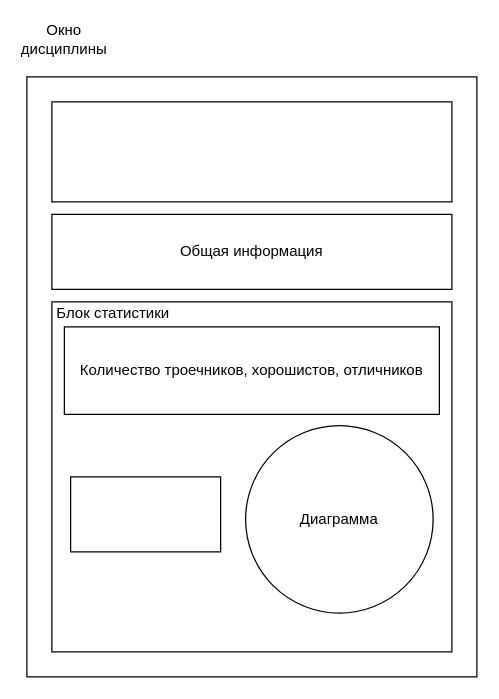
Image size: 499x699. Some labels were removed from this diagram. Each missing label, with the centre of its shape:
Легенда: (145,514)
Профиль преподавателя -Имя (ссылка на полный профиль) -Аватар: (251,151)
